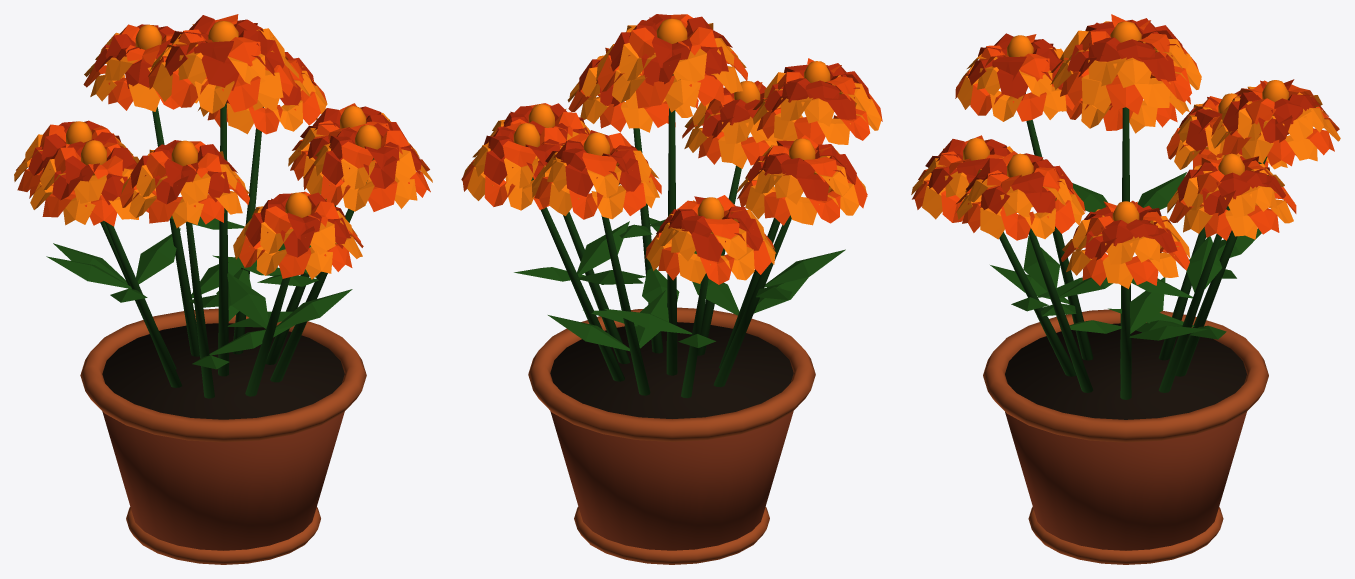
The model's file is arreglo_cempasuchil.obj.
3 views of the same model, side by side, from view 1: azimuth 30°, elevation 25°; view 2: azimuth 150°, elevation 25°; view 3: azimuth 270°, elevation 25° (orthographic).
Parts seen in each view (by area): view 1: arreglo_cempasuchil; view 2: arreglo_cempasuchil; view 3: arreglo_cempasuchil.
Boxes of the visible parts, x1=… form: arreglo_cempasuchil: x1=14, y1=14, x2=432, y2=564; arreglo_cempasuchil: x1=461, y1=14, x2=882, y2=564; arreglo_cempasuchil: x1=911, y1=14, x2=1340, y2=564.
Size of the model in its own units: 0.6033 by 0.7804 by 0.6033.
